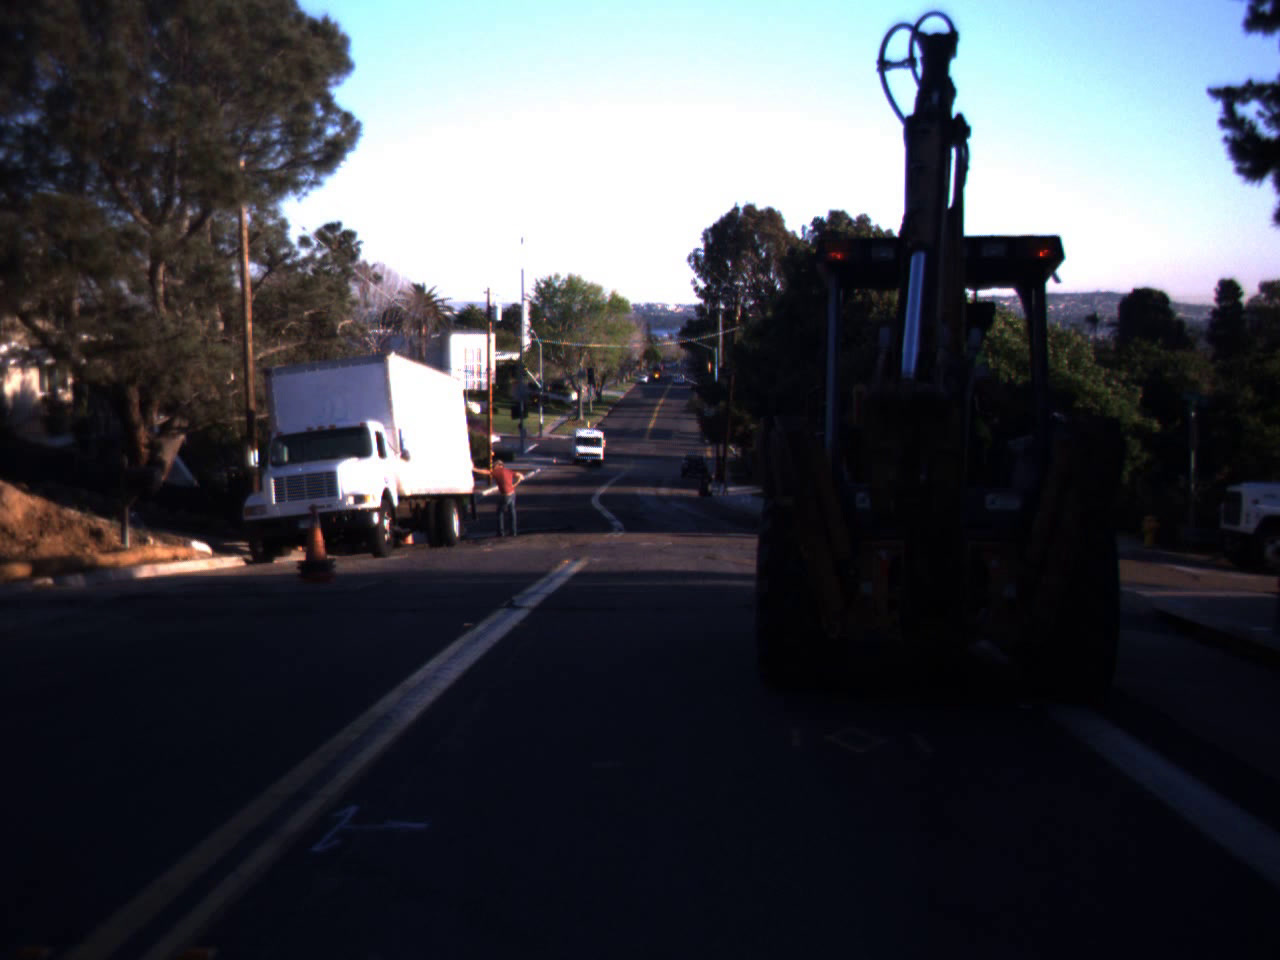warning: (529, 390, 541, 408)
